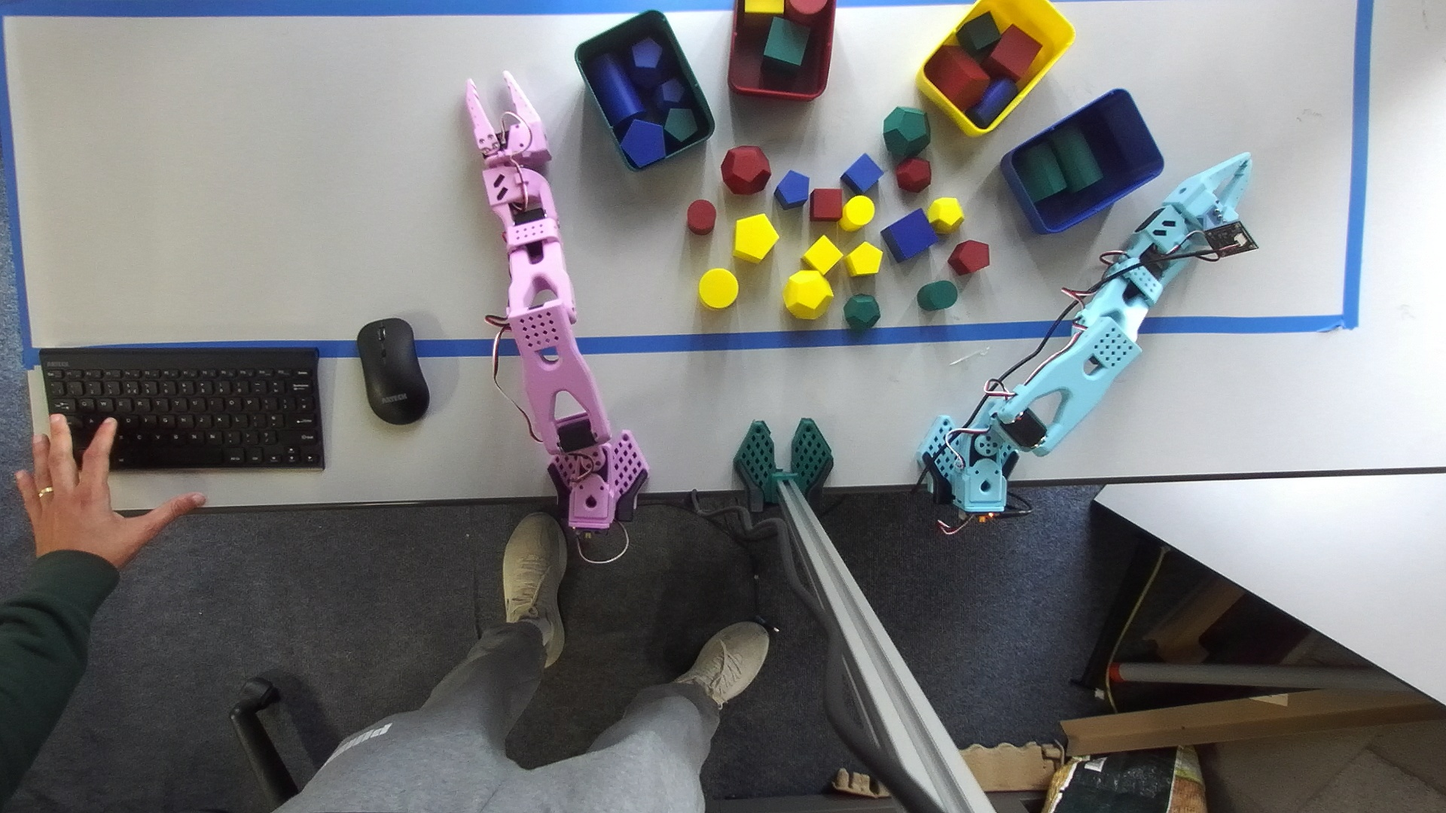bin: (1001, 89, 1163, 234), (575, 11, 713, 169), (917, 0, 1074, 136), (728, 0, 835, 100)
cube: (981, 26, 1041, 80), (880, 208, 938, 261), (762, 17, 810, 75), (957, 13, 1000, 57), (840, 154, 883, 194), (801, 235, 842, 274), (737, 0, 782, 29), (809, 188, 843, 221)
cylinder: (583, 53, 645, 126), (1051, 123, 1102, 191), (967, 78, 1016, 126), (697, 268, 738, 308), (839, 195, 874, 231), (917, 280, 958, 310), (686, 199, 715, 234), (784, 0, 827, 23)
dodecahedron: (783, 269, 833, 318), (883, 107, 930, 158), (721, 146, 770, 193), (628, 38, 669, 87), (926, 197, 963, 235), (843, 294, 880, 331), (895, 157, 931, 192), (654, 78, 688, 110)
gripper: (465, 70, 551, 170), (1164, 153, 1252, 229)
hexagonal: (924, 45, 990, 111), (1014, 142, 1066, 201), (620, 120, 666, 168), (733, 214, 778, 261), (947, 240, 990, 274), (773, 170, 809, 209), (846, 242, 882, 276), (665, 108, 697, 142)
